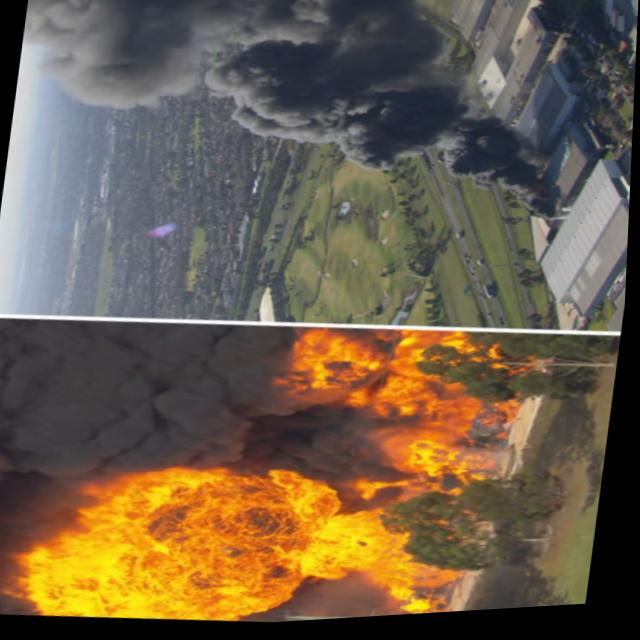Fire: (0, 296, 560, 639)
